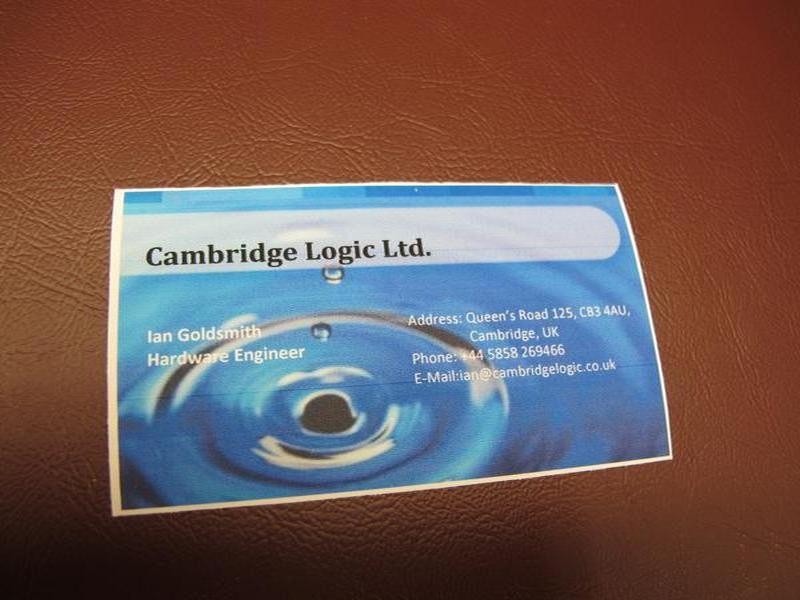card: (109, 184, 680, 518)
